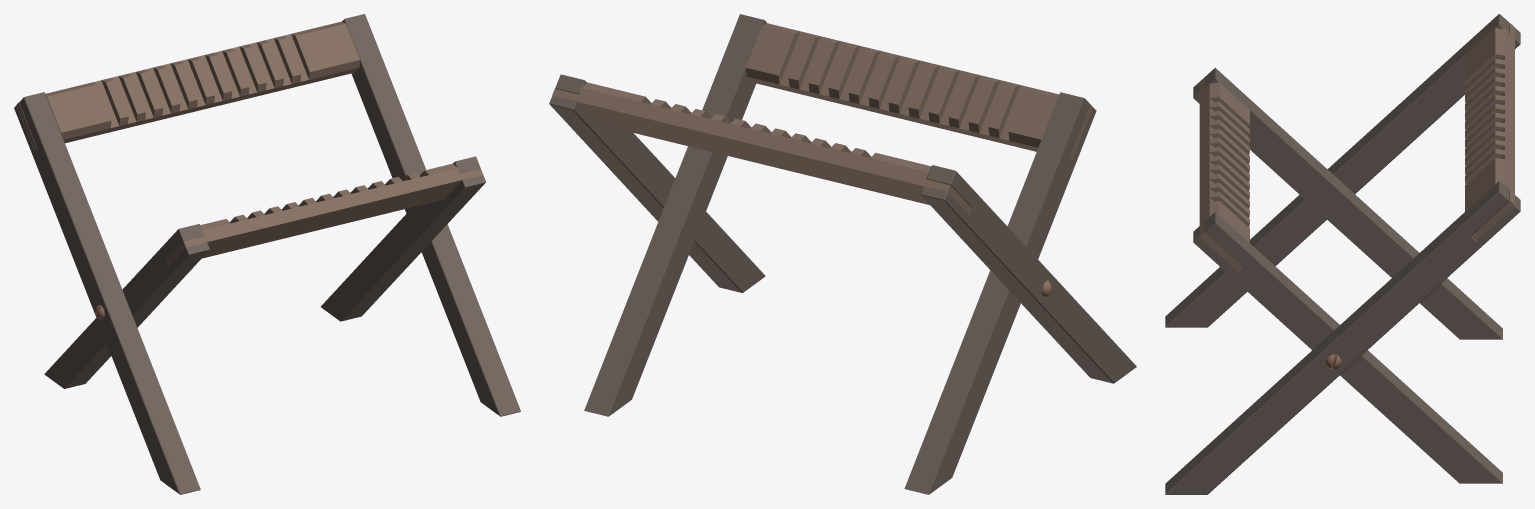
Rendered from demo_dryingrack.glb.
The picture shows the model from 3 angles, left to right: view 1: azimuth 30°, elevation 25°; view 2: azimuth 150°, elevation 25°; view 3: azimuth 270°, elevation 25°; orthographic projection. The views are drawn at different scales.
Visible parts, largest first — view 1: dryingrack.002; view 2: dryingrack.002; view 3: dryingrack.002.
Part boxes in pixels (bbox=[...]): dryingrack.002: bbox=[14, 14, 520, 494]; dryingrack.002: bbox=[549, 14, 1136, 494]; dryingrack.002: bbox=[1165, 14, 1520, 494].
Size of the model in its own units: 12.69 by 9.79 by 10.39.
